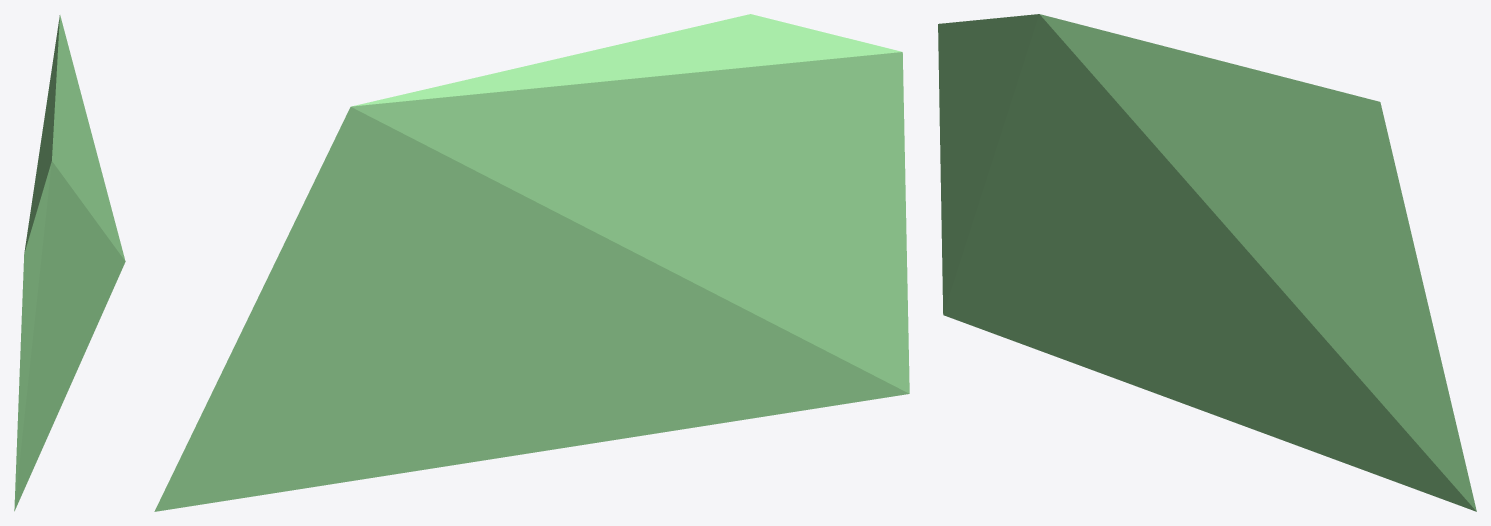
The model's file is linkhou_LR4_R560_link6_respondable_coll_11.dae.
The picture shows the model from 3 angles, left to right: view 1: azimuth 30°, elevation 25°; view 2: azimuth 150°, elevation 25°; view 3: azimuth 270°, elevation 25°; orthographic projection. The views are drawn at different scales.
Parts seen in each view (by area): view 1: Node_00000298084333A0; view 2: Node_00000298084333A0; view 3: Node_00000298084333A0.
Part boxes in pixels (<box>): Node_00000298084333A0: <box>14,15,125,511</box>; Node_00000298084333A0: <box>154,14,909,511</box>; Node_00000298084333A0: <box>938,14,1476,511</box>.
Bounding box in the file's own units: 0.0188 × 0.0159 × 0.0222.
